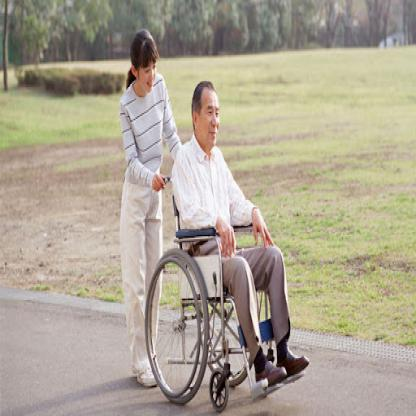wheelchair: (150, 77, 309, 410)
